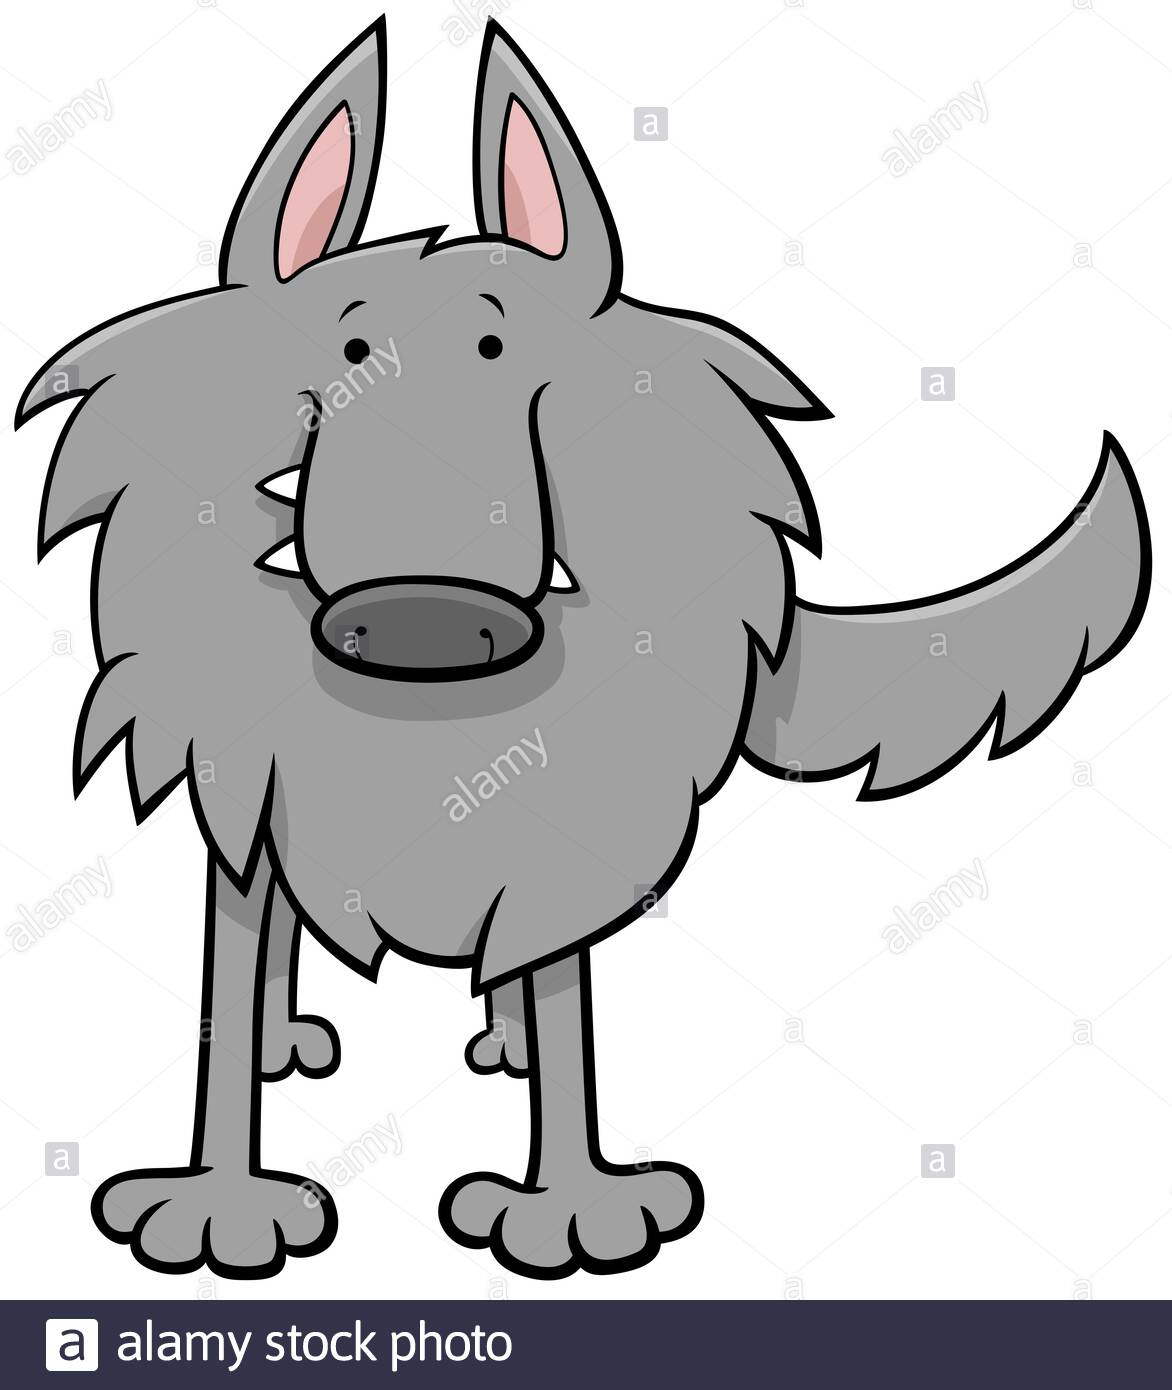Lobo: (36, 17, 1167, 1256)
